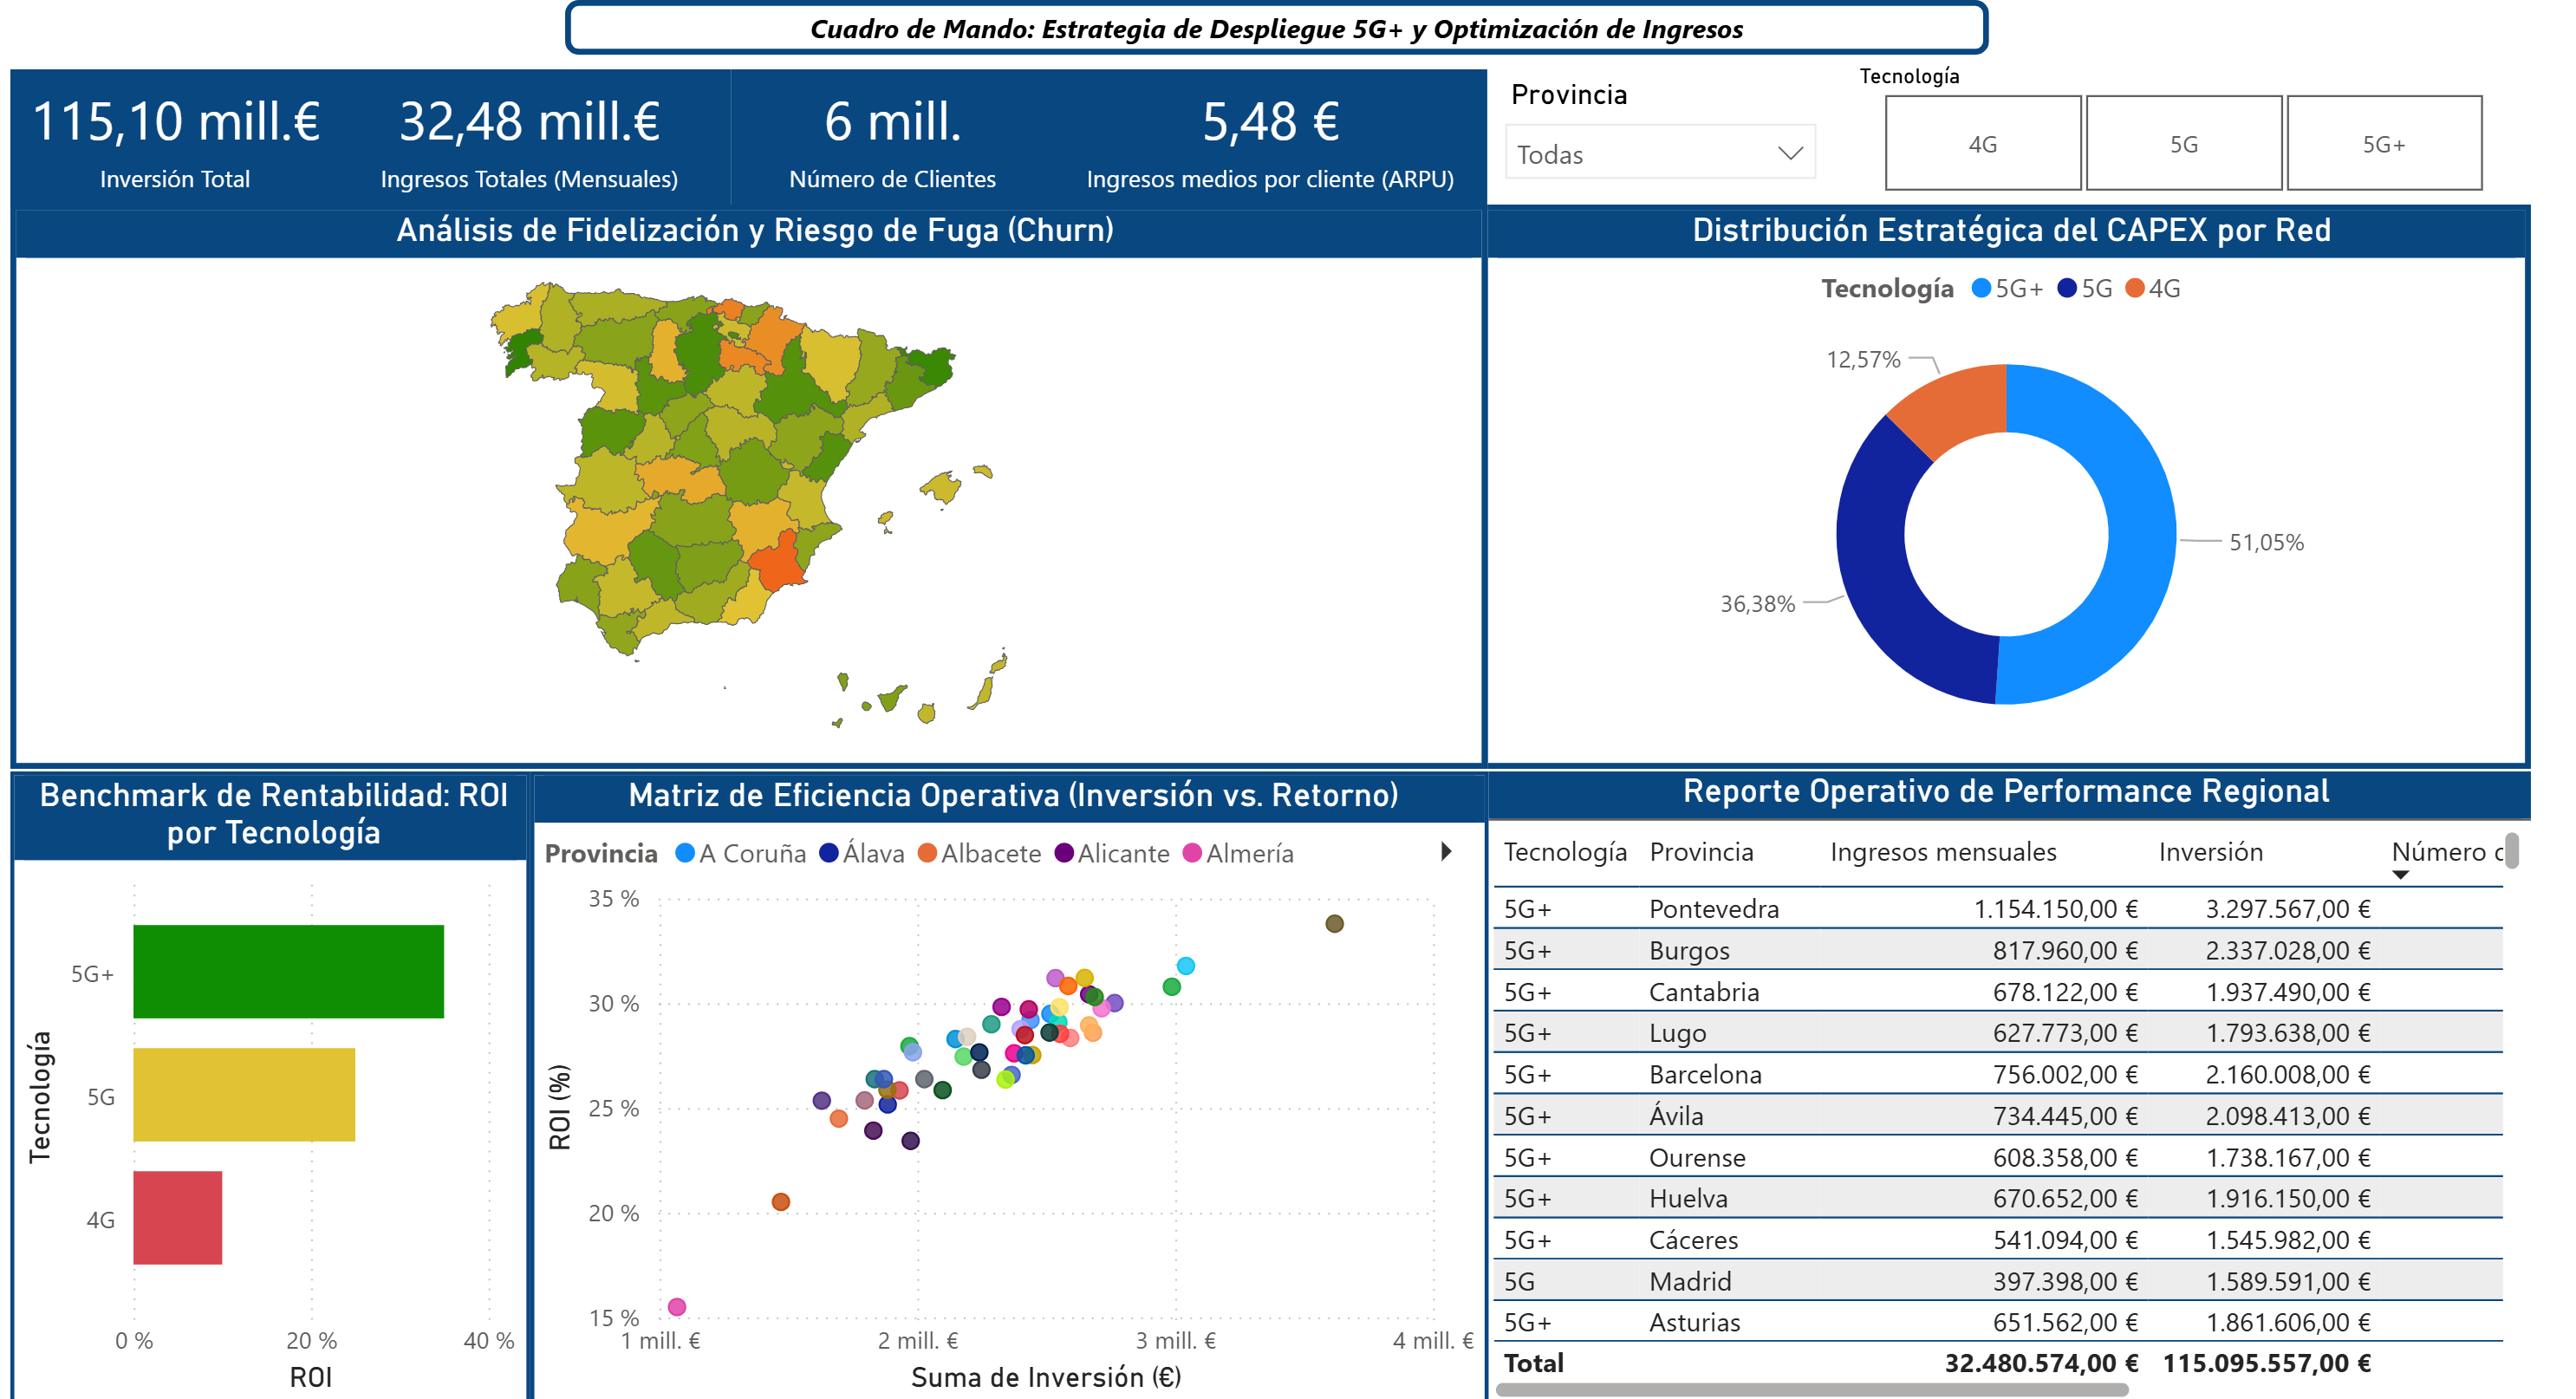

Layout of this report page (visuals, bound fields, positions):
{"tool":"powerbi","page":{"name":"Cuadro de Mando: Estrategia de Despliegue 5G+ y Optimización de Ingresos","canvas":[1280,720],"ordinal":0},"visuals":[{"type":"tableEx","title":"Reporte Operativo de Performance Regional","fields":{"Values":["Sheet1.Tecnología","Sheet1.Provincia","Sum(Sheet1.Ingresos Mes (€))","Sum(Sheet1.Inversión (€))","Sum(Sheet1.Clientes)","Avg(Sheet1.Churn (%))","Avg(Sheet1.Velocidad (Mbps))","Sum(Sheet1.Averías)"]},"box":[747.5,397.5,532.5,322.5],"z":0},{"type":"card","fields":{"Values":["Sum(Sheet1.Inversión (€))"]},"box":[0,41.2,167.5,68.8],"z":2000},{"type":"slicer","fields":{"Values":["Sheet1.Provincia"]},"box":[748.8,40.7,177.8,77.5],"z":3000},{"type":"slicer","fields":{"Values":["Sheet1.Tecnología"]},"box":[926.2,33.8,353.8,76.2],"z":4000},{"type":"card","fields":{"Values":["Sum(Sheet1.Ingresos Mes (€))"]},"box":[161.2,41.2,205,68.8],"z":5000},{"type":"card","fields":{"Values":["Sum(Sheet1.Clientes)"]},"box":[366.2,41.2,163.8,68.8],"z":6000},{"type":"donutChart","title":"Distribución Estratégica del CAPEX por Red","fields":{"Category":["Sheet1.Tecnología"],"Y":["Sum(Sheet1.Inversión (€))"]},"box":[747.5,110,532.5,286.2],"z":7000},{"type":"clusteredBarChart","title":"Benchmark de Rentabilidad: ROI por Tecnología","fields":{"Category":["Sheet1.Tecnología"],"Y":["Sheet1.ROI"]},"box":[0,397.5,263.8,322.5],"z":9000},{"type":"scatterChart","title":"Matriz de Eficiencia Operativa (Inversión vs. Retorno)","fields":{"X":["Sum(Sheet1.Inversión (€))"],"Y":["Sheet1.ROI"],"Series":["Sheet1.Provincia"]},"box":[263.8,397.5,486.2,322.5],"z":10000},{"type":"shape","box":[282,6,723,27.8],"z":11000},{"type":"shapeMap","title":"Análisis de Fidelización y Riesgo de Fuga (Churn)","fields":{"Value":["Avg(Sheet1.Churn (%))"],"Category":["Sheet1.Provincia"]},"box":[0,110,750,286.2],"z":11001},{"type":"card","fields":{"Values":["Sheet1.ARPU"]},"box":[530,41.2,220,68.8],"z":11002}]}

Visuals, with their boxes in screenshot pixels (x1, y1, x2, y2):
"Reporte Operativo de Performance Regional" tableEx: pyautogui.locateOnScreen(1475, 765, 2535, 1398)
card - Sum(Sheet1.Inversión (€)): pyautogui.locateOnScreen(0, 55, 320, 192)
slicer - Sheet1.Provincia: pyautogui.locateOnScreen(1478, 55, 1831, 209)
slicer - Sheet1.Tecnología: pyautogui.locateOnScreen(1831, 41, 2535, 192)
card - Sum(Sheet1.Ingresos Mes (€)): pyautogui.locateOnScreen(308, 55, 716, 192)
card - Sum(Sheet1.Clientes): pyautogui.locateOnScreen(716, 55, 1042, 192)
"Distribución Estratégica del CAPEX por Red" donutChart: pyautogui.locateOnScreen(1475, 192, 2535, 762)
"Benchmark de Rentabilidad: ROI por Tecnología" clusteredBarChart: pyautogui.locateOnScreen(0, 765, 511, 1398)
"Matriz de Eficiencia Operativa (Inversión vs. Retorno)" scatterChart: pyautogui.locateOnScreen(511, 765, 1480, 1398)
shape: pyautogui.locateOnScreen(548, 0, 1987, 41)
"Análisis de Fidelización y Riesgo de Fuga (Churn)" shapeMap: pyautogui.locateOnScreen(0, 192, 1480, 762)
card - Sheet1.ARPU: pyautogui.locateOnScreen(1042, 55, 1480, 192)
